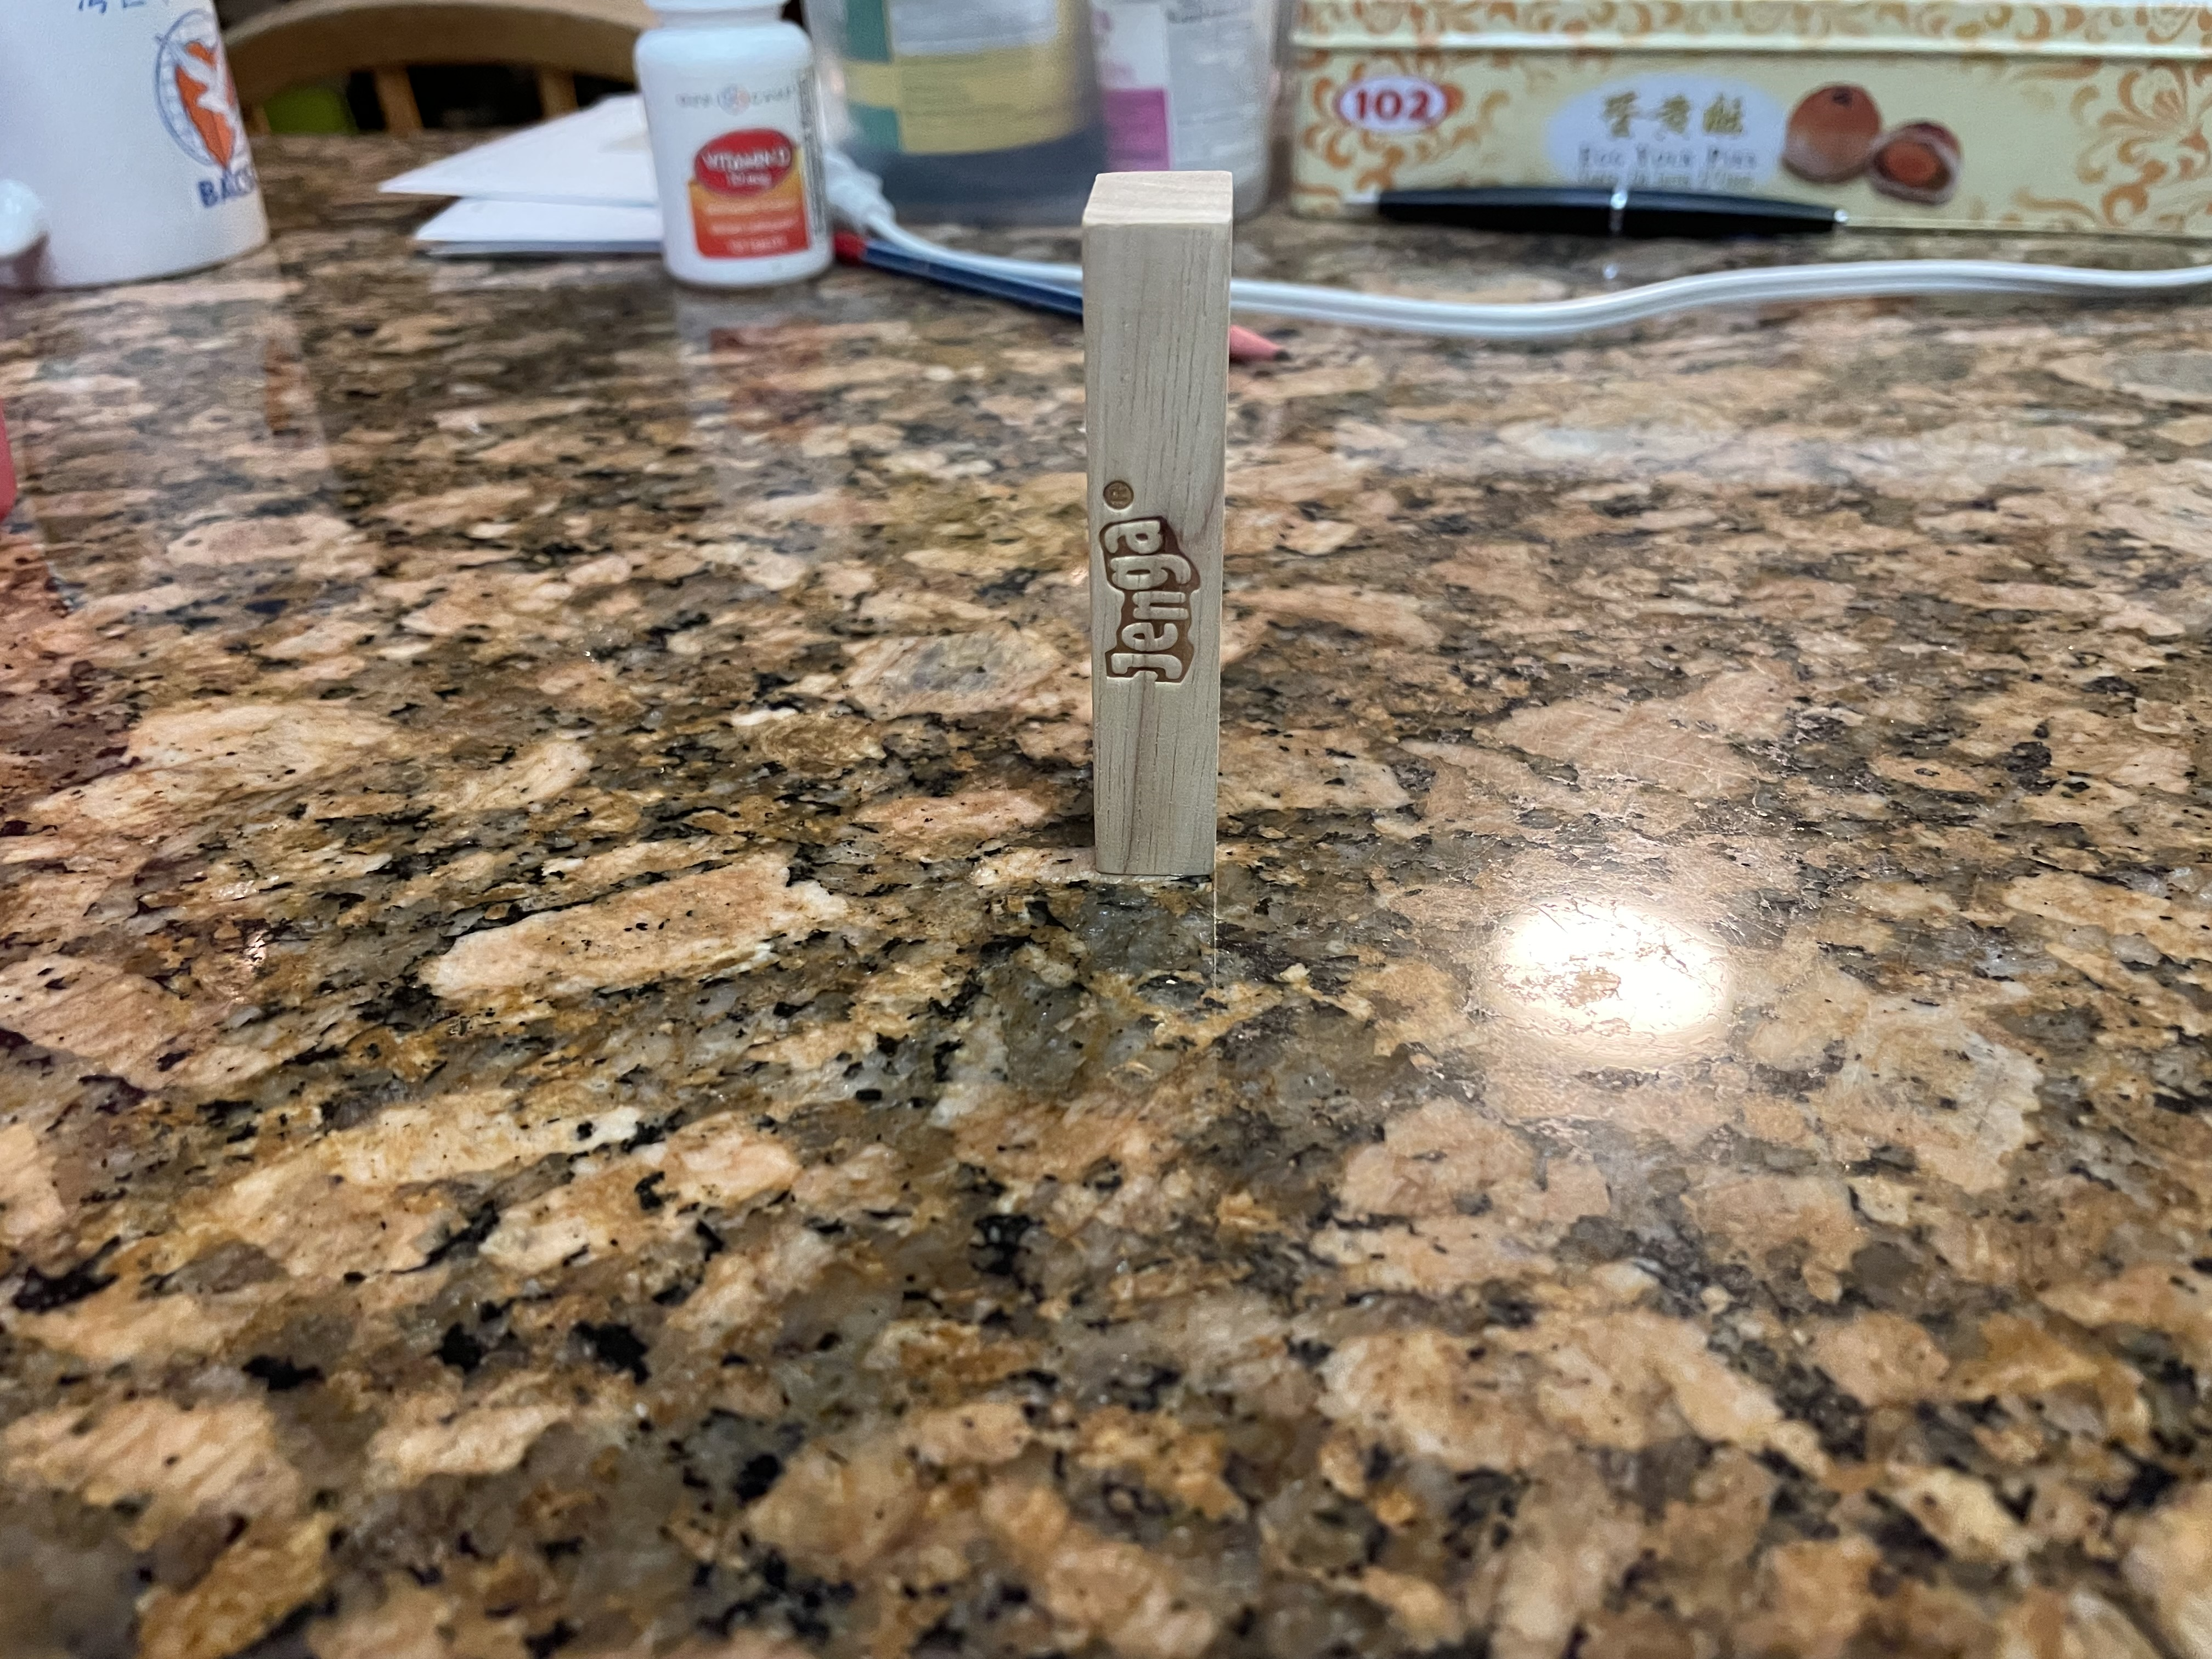jenga: (1082, 160, 1230, 884)
